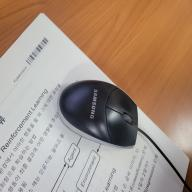mouse: (51, 54, 147, 162)
